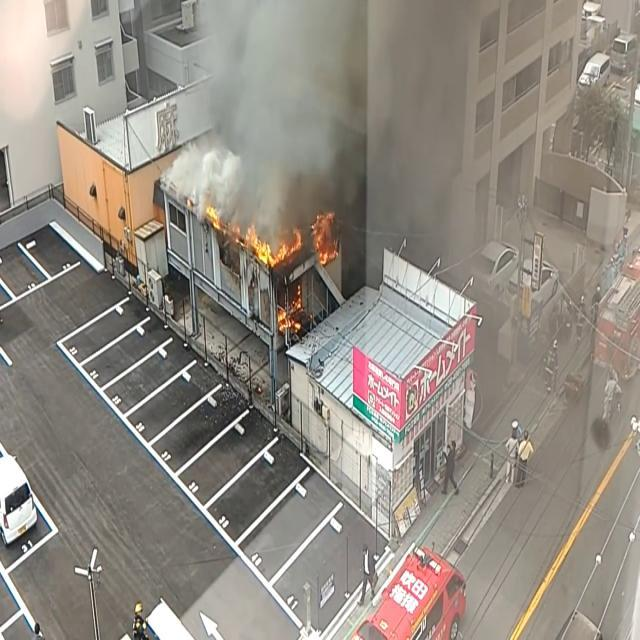Fire: (248, 224, 302, 270), (309, 203, 341, 269), (276, 278, 305, 334), (202, 200, 224, 236)
Smoke: (166, 1, 558, 260)
